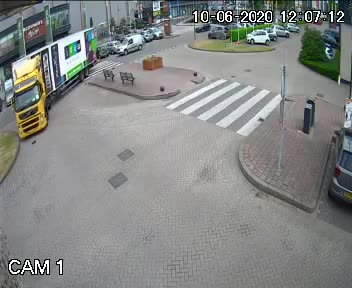car: (3, 21, 101, 142), (116, 30, 145, 60)
